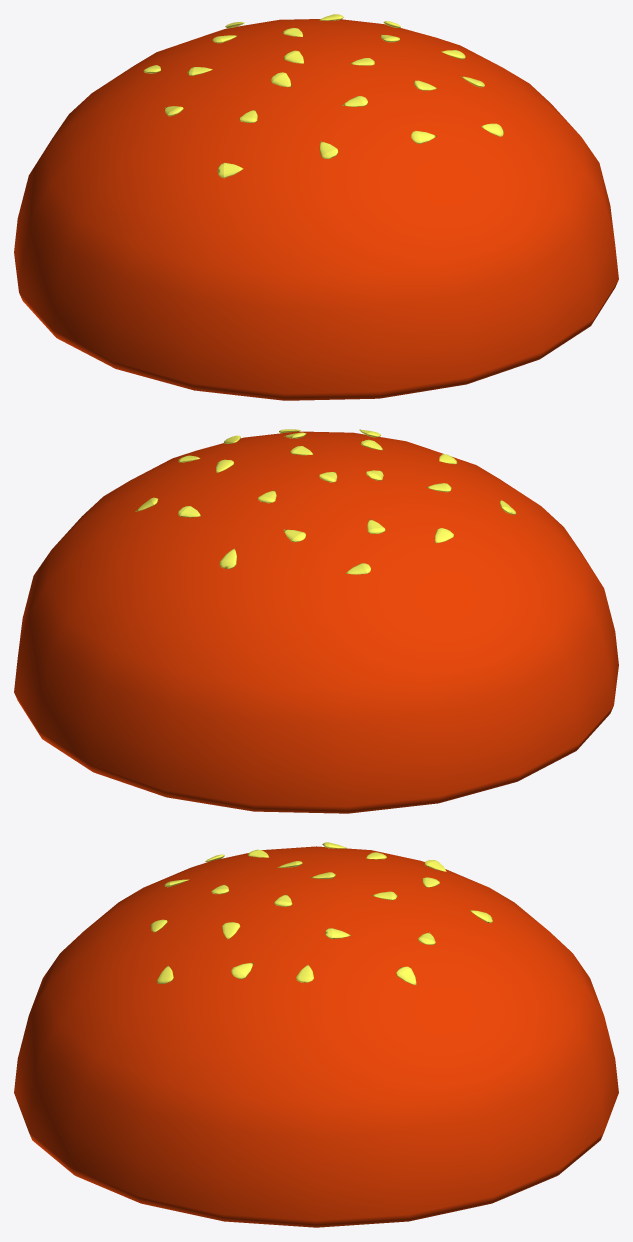
Rendered from TopBun.fbx.
3 views of the same model, one above another, from view 1: azimuth 30°, elevation 25°; view 2: azimuth 150°, elevation 25°; view 3: azimuth 270°, elevation 25° (orthographic).
Parts seen in each view (by area): view 1: polySurface12; view 2: polySurface12; view 3: polySurface12.
Boxes of the visible parts, box(x1,y1,x2,y2) form: polySurface12: box(14, 14, 618, 400); polySurface12: box(14, 429, 618, 813); polySurface12: box(14, 842, 618, 1227).
Size of the model in its own units: 13.2 by 5.52 by 13.2.
